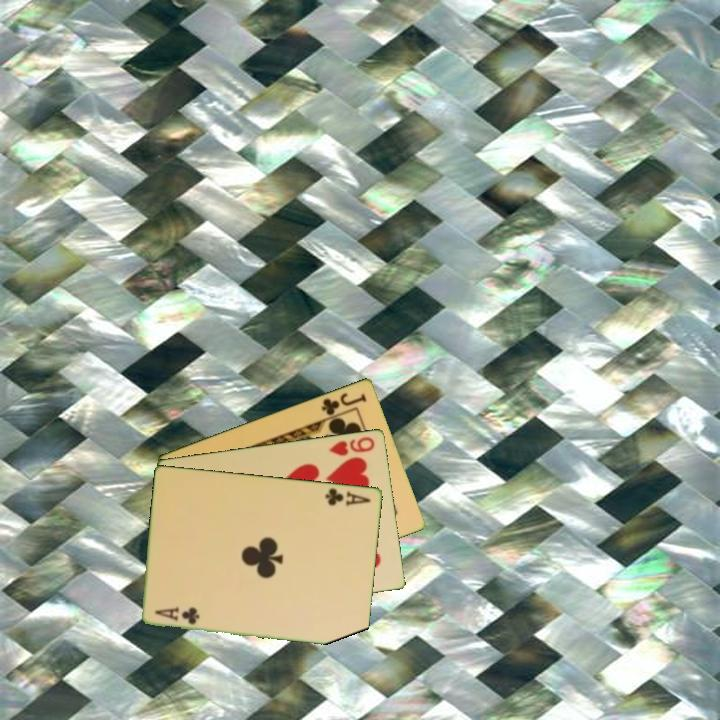9h: (326, 433, 378, 458)
Ac: (322, 484, 374, 508), (152, 603, 203, 627)
Jc: (318, 389, 370, 418)
